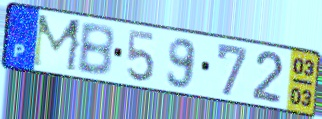2: (251, 49, 286, 107)
5: (124, 27, 157, 84)
7: (215, 41, 250, 98)
9: (165, 37, 198, 90)
B: (75, 23, 116, 79)
M: (30, 12, 85, 75)
